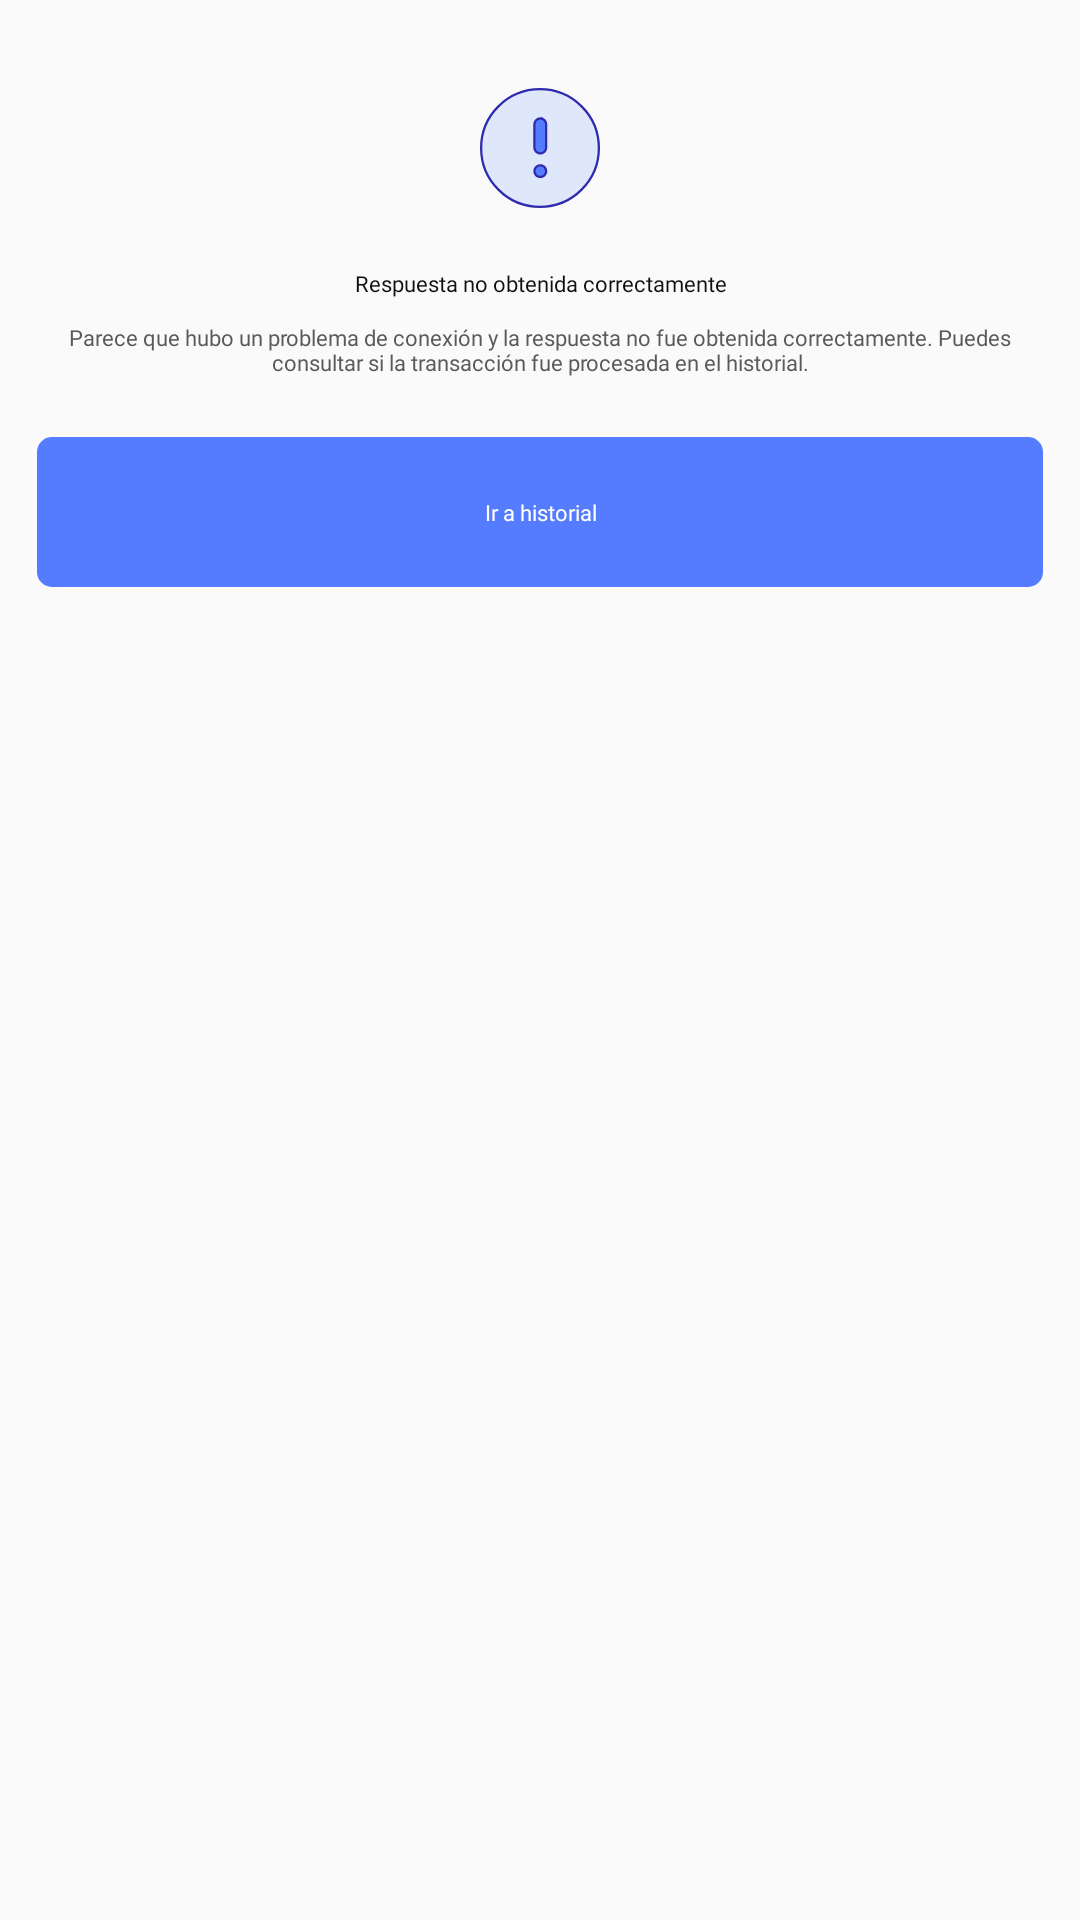

Named icons in this screenshot (1080px x 1920px) and their centers, [x,y]:
efevoo info: [540,148]
